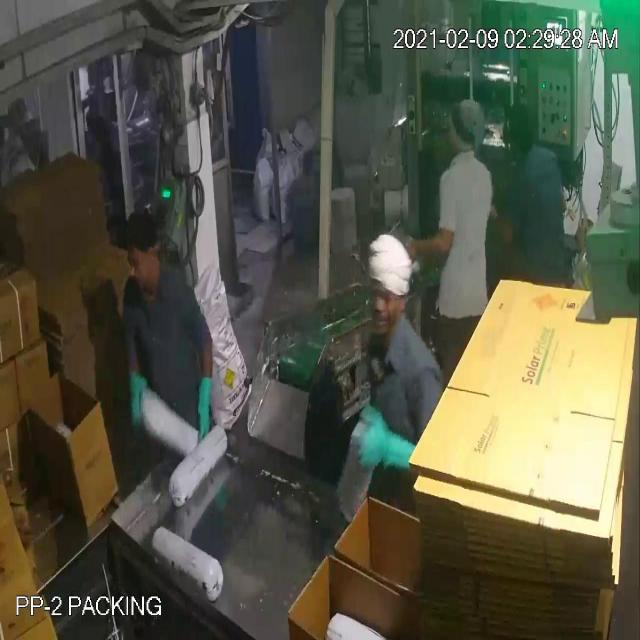Gloves: (25, 49, 430, 438)
